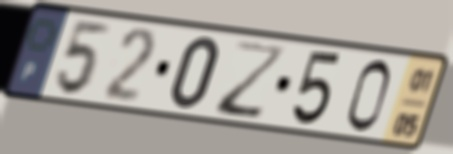0: (166, 34, 222, 112), (346, 57, 392, 135)
2: (101, 25, 159, 106)
5: (54, 17, 115, 98), (290, 50, 344, 127)
Z: (213, 37, 291, 123)
